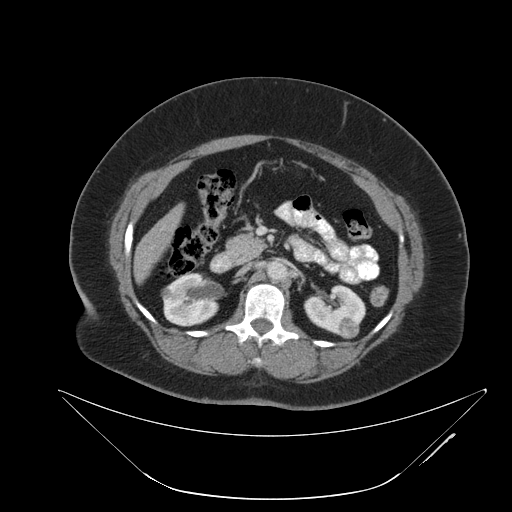Lesion: (339, 318, 360, 341)
